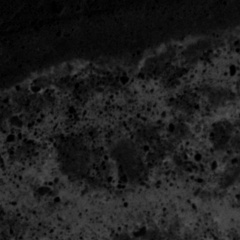Vegetation: (1, 172, 240, 240), (45, 74, 181, 133), (183, 61, 234, 174), (1, 115, 56, 173), (53, 60, 114, 79), (150, 151, 179, 174)
